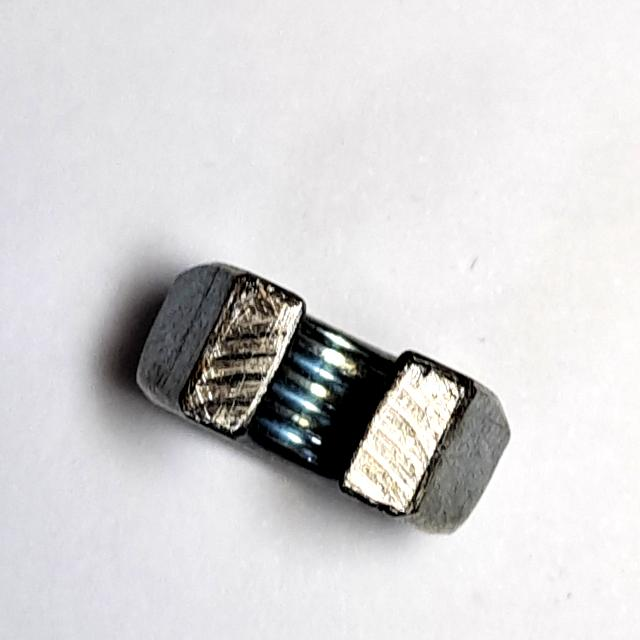Side-Fracture: (121, 244, 530, 558)
